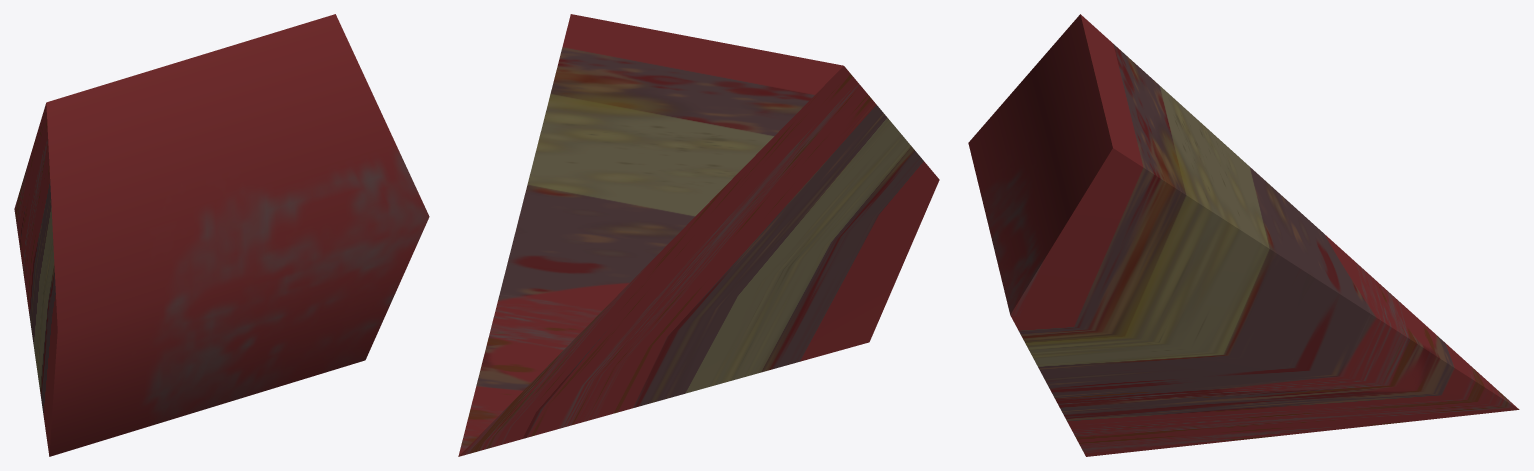
File: ishi_03_10_4.fbx
3 views of the same model, side by side, from view 1: azimuth 30°, elevation 25°; view 2: azimuth 150°, elevation 25°; view 3: azimuth 270°, elevation 25° (orthographic). The views are drawn at different scales.
Parts seen in each view (by area): view 1: polySurface56; view 2: polySurface56; view 3: polySurface56.
Boxes of the visible parts, <box> form: polySurface56: <box>14,14,429,456</box>; polySurface56: <box>458,14,939,456</box>; polySurface56: <box>968,14,1519,456</box>.
Bounding box in the file's own units: 6.27 × 5.14 × 8.48.
1 material, 1 textured.
